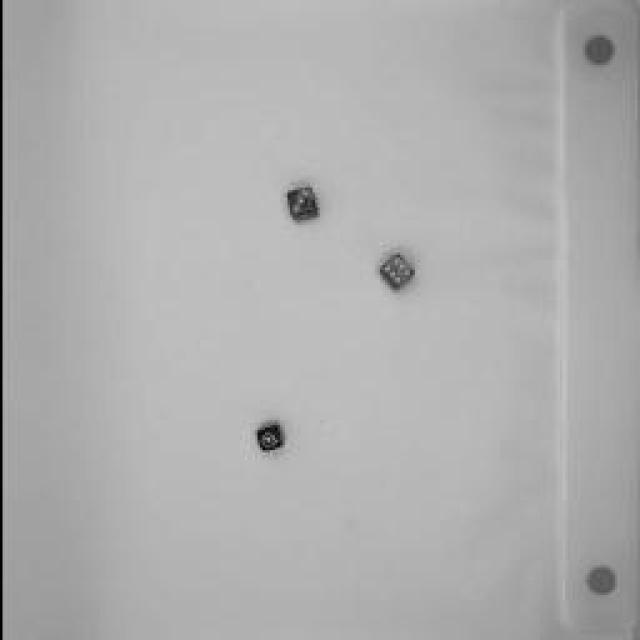dice_1: (245, 418, 285, 458)
dice_3: (276, 180, 319, 225)
dice_6: (365, 248, 420, 298)
